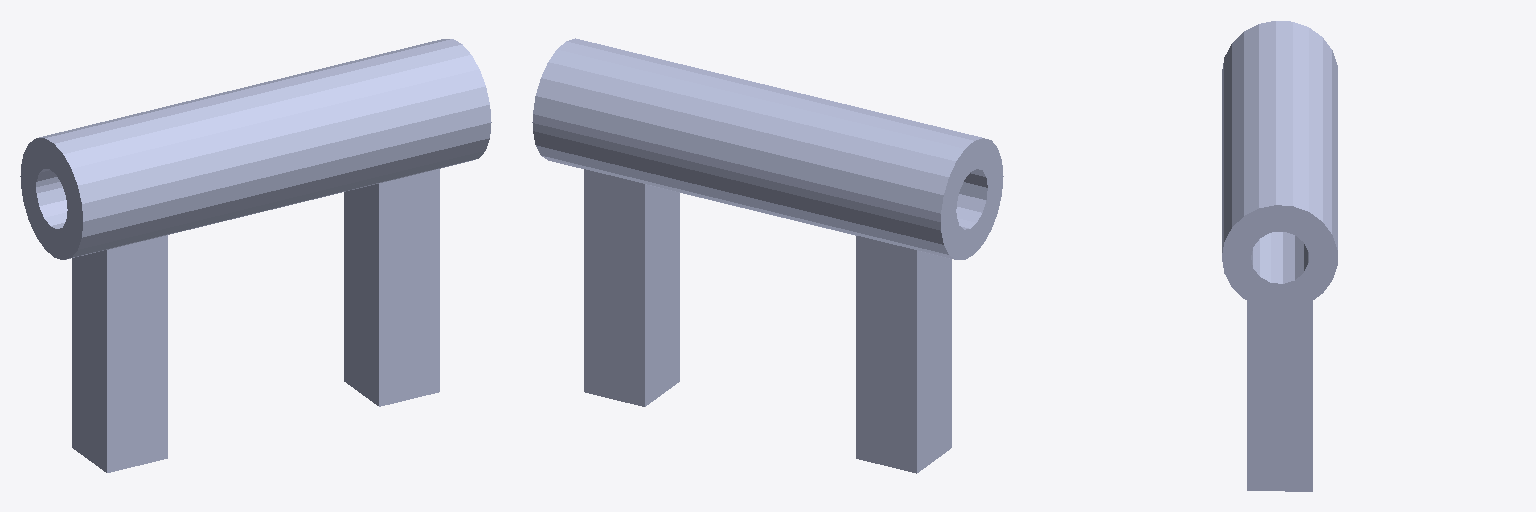
robot.urdf — hole:
<?xml version="1.0"?>
<robot
    xmlns:xacro="http://www.ros.org/wiki/xacro" name="hole" >
  <link
    name="hole_link">
    <inertial>
      <origin
        xyz="-1.4542E-17 -0.040175 -2.0864E-18"
        rpy="1.57 0 0" />
      <mass
        value="17.475" />
      <inertia
        ixx="0.0076021"
        ixy="-1.0683E-18"
        ixz="3.7058E-19"
        iyy="0.015422"
        iyz="-6.8785E-19"
        izz="0.021683" />
    </inertial>
    <visual>
      <origin
        xyz="0 0 0"
        rpy="1.57 0 0" />
      <geometry>
        <mesh
          filename="package://hydrus/urdf/mesh/scene/hole_link.dae" />
      </geometry>
      <material
        name="">
        <color
          rgba="0.79216 0.81961 0.93333 1" />
      </material>
    </visual>
    <collision>
      <origin
        xyz="0 0 0"
        rpy="1.57 0 0" />
      <geometry>
        <mesh
          filename="package://hydrus/urdf/mesh/scene/hole_link.dae" />
      </geometry>
    </collision>
  </link>

  <gazebo reference="hole_link">
    <static>true</static>
  </gazebo>

</robot>

--- What the picture shows (computed from the rendered views, not written in the file) ---
Views: 3 orthographic renders of the robot side by side, from view 1: azimuth 30°, elevation 25°; view 2: azimuth 150°, elevation 25°; view 3: azimuth 270°, elevation 25°.
Model hole with 1 links and 0 joints (none), rooted at hole_link, posed every joint at zero.
Links seen in each view (by area): view 1: hole_link; view 2: hole_link; view 3: hole_link.
Link boxes in pixels (x1,y1,x2,y2): hole_link: [20, 39, 491, 472]; hole_link: [532, 38, 1003, 473]; hole_link: [1222, 21, 1337, 491].
Size in the robot's own frame: 0.3 by 0.08 by 0.2299 metres.
Meshes: 1 distinct files referenced, 1 mesh visuals loaded (1 Collada DAE).